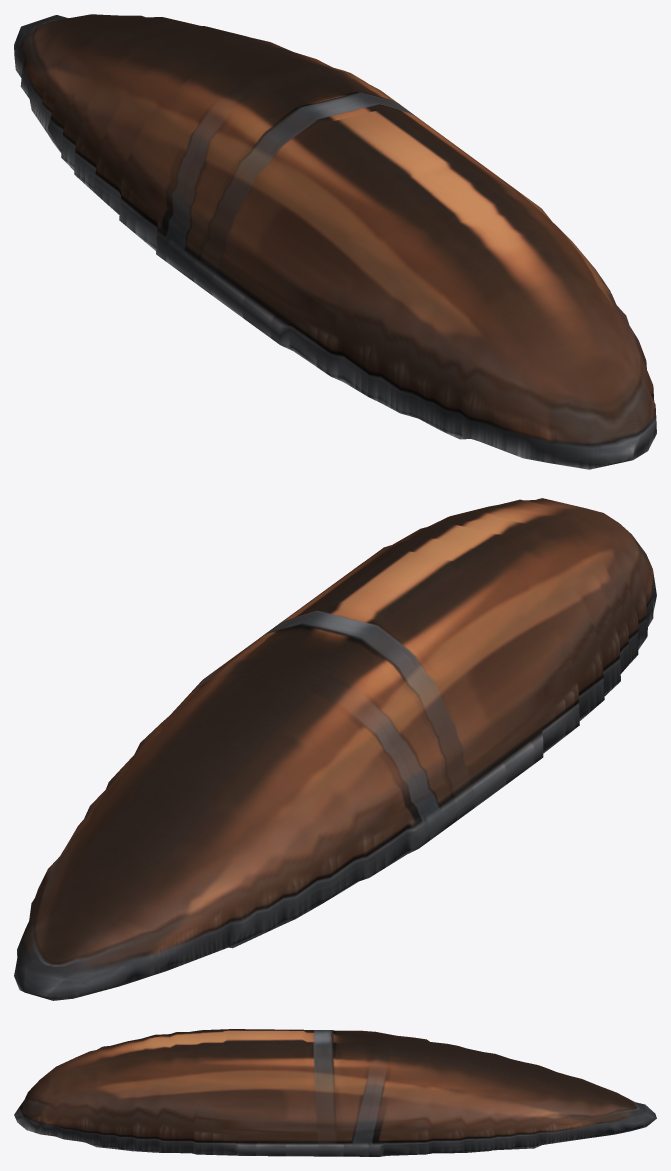
File: canopy.glb
3 renders of one model, top to bottom at view 1: azimuth 30°, elevation 25°; view 2: azimuth 150°, elevation 25°; view 3: azimuth 270°, elevation 25°, orthographic. The views are drawn at different scales.
Parts seen in each view (by area): view 1: canopy; view 2: canopy; view 3: canopy.
Part boxes in pixels (x1,y1,x2,y2): canopy: [14, 14, 656, 469]; canopy: [14, 498, 656, 1000]; canopy: [14, 1029, 656, 1156].
Bounding box in the file's own units: 0.4573 × 0.2701 × 1.78.
1 material, 1 textured.
